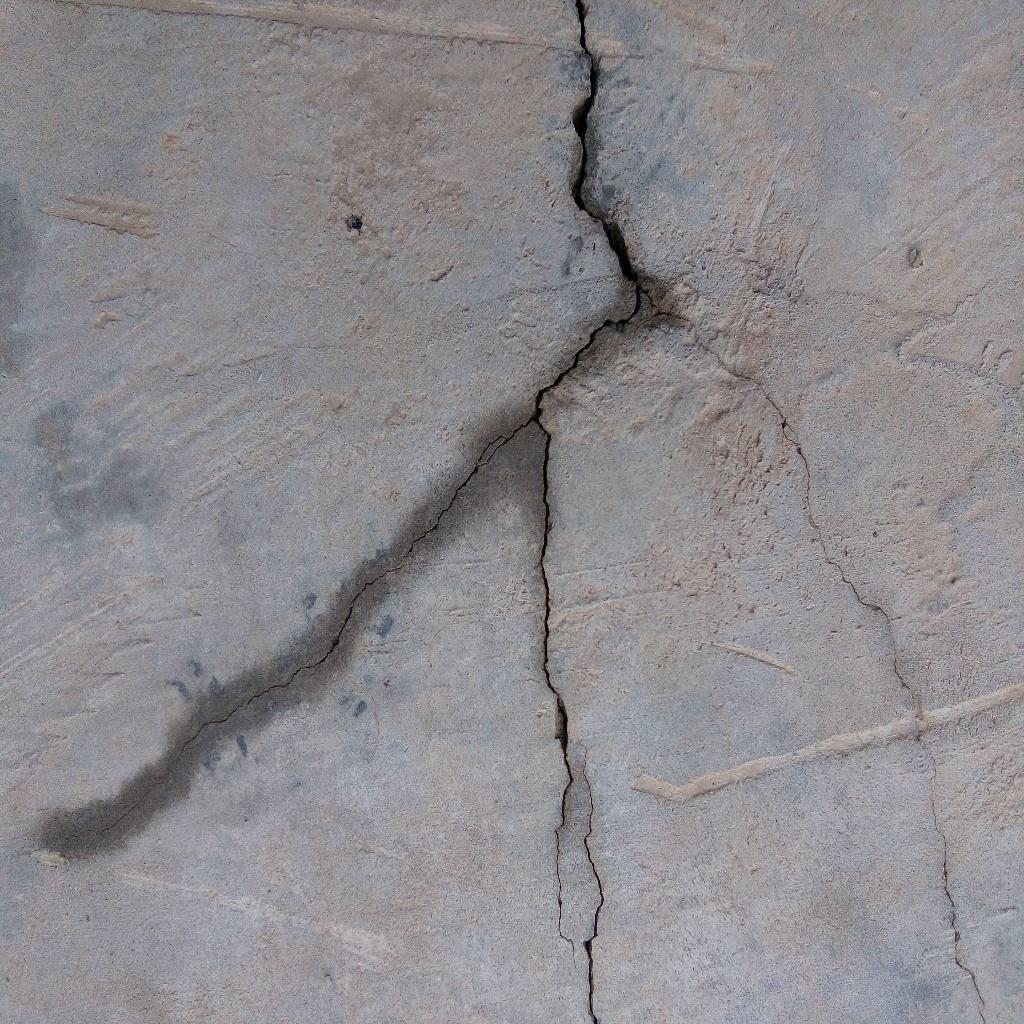Crack: (640, 287, 989, 1024), (104, 418, 535, 834), (536, 1, 640, 419), (536, 419, 605, 1024)
